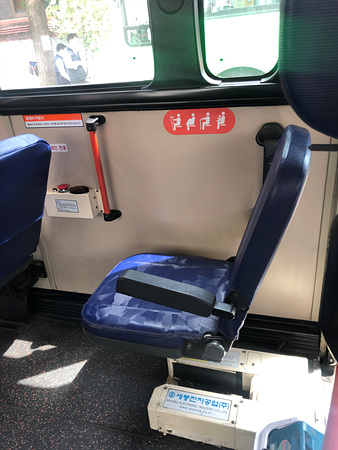seat: (94, 125, 308, 354)
